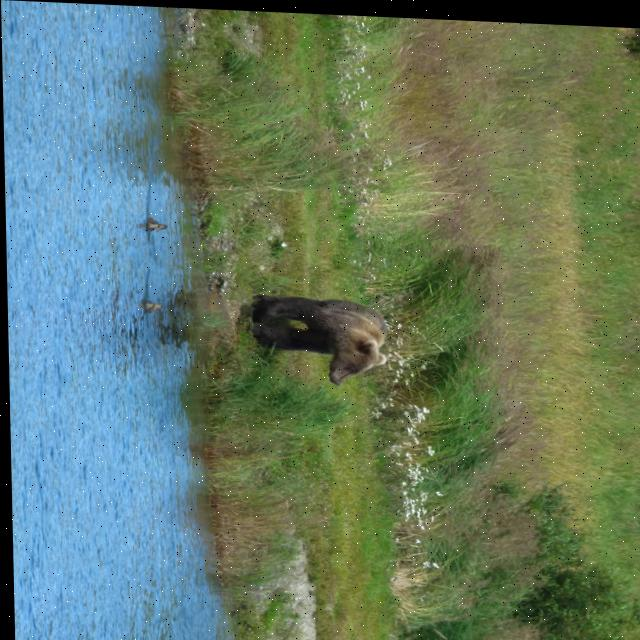bear face: (255, 293, 385, 385)
